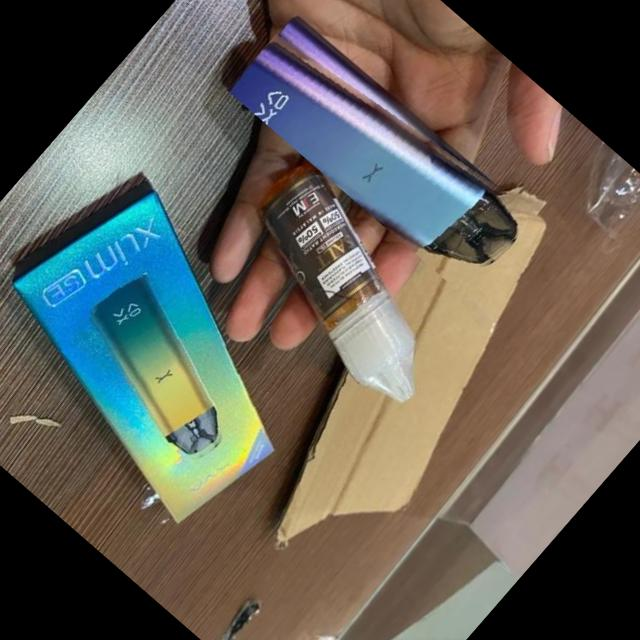Hazard: (226, 7, 537, 298), (60, 266, 272, 472)
